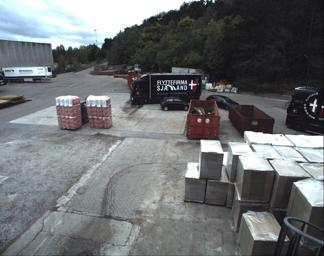rockwool_batts: (85, 94, 112, 127), (54, 96, 81, 129)
